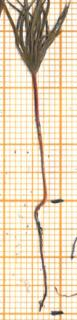flower: (0, 0, 77, 76)
root: (31, 200, 50, 314)
stem: (28, 75, 50, 204)
